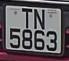3: (46, 30, 59, 53)
5: (9, 27, 22, 51)
6: (33, 29, 47, 52)
8: (22, 28, 34, 51)
N: (33, 7, 47, 31)
T: (21, 5, 34, 31)
